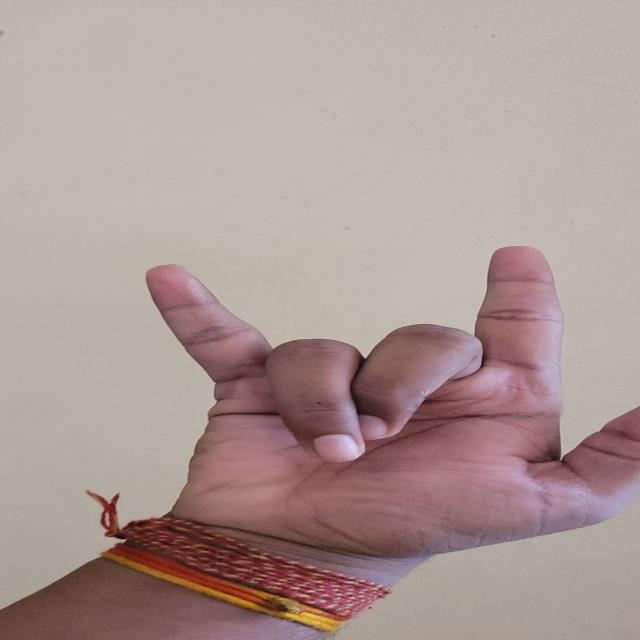i like you: (61, 217, 640, 597)
